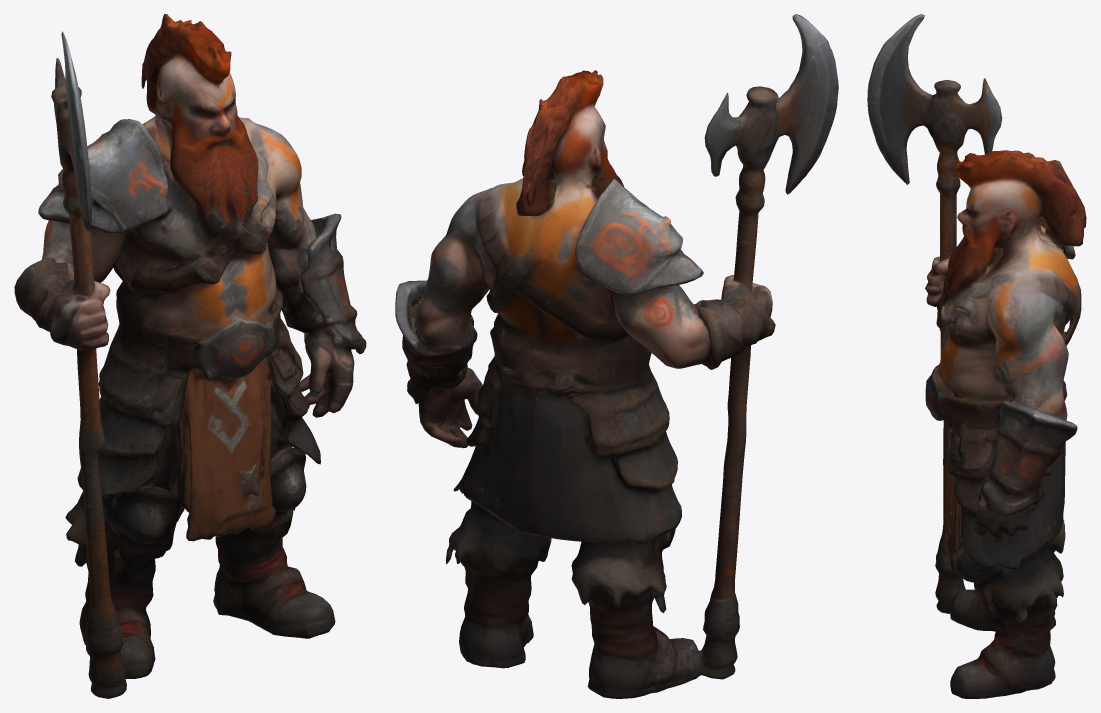
File: warhammer-orange-crest.glb
3 views of the same model, side by side, from view 1: azimuth 30°, elevation 25°; view 2: azimuth 150°, elevation 25°; view 3: azimuth 270°, elevation 25° (orthographic). The views are drawn at different scales.
Size of the model in its own units: 1.11 by 2 by 0.6961.
1 material, 1 textured.
